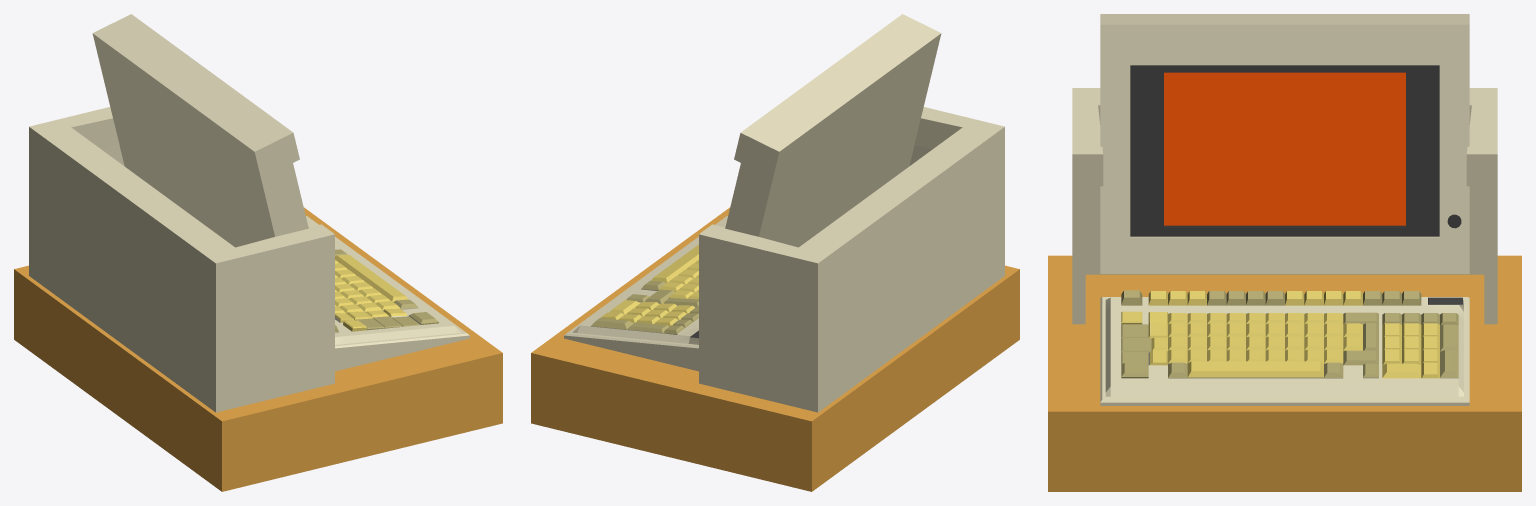
Rendered from Retro_Computer.fbx.
The picture shows the model from 3 angles, left to right: view 1: azimuth 30°, elevation 25°; view 2: azimuth 150°, elevation 25°; view 3: azimuth 270°, elevation 25°; orthographic projection. The views are drawn at different scales.
Visible parts, largest first — view 1: Cube.001, Cube.004, Cube, Cube.002; view 2: Cube.001, Cube.004, Cube, Cube.002; view 3: Cube, Cube.004, Cube.002, Cube.001.
Part boxes in pixels (x1,y1,x2,y2): Cube.001: (29,107,334,412); Cube.004: (14,207,502,491); Cube: (92,14,308,247); Cube.002: (306,216,469,371); Cube.001: (699,107,1004,412); Cube.004: (531,207,1019,491); Cube: (725,14,941,247); Cube.002: (564,216,727,371); Cube: (1100,14,1469,273); Cube.004: (1048,255,1521,491); Cube.002: (1100,290,1469,405); Cube.001: (1072,88,1497,324).
Bounding box in the file's own units: 200 × 217 × 257.
